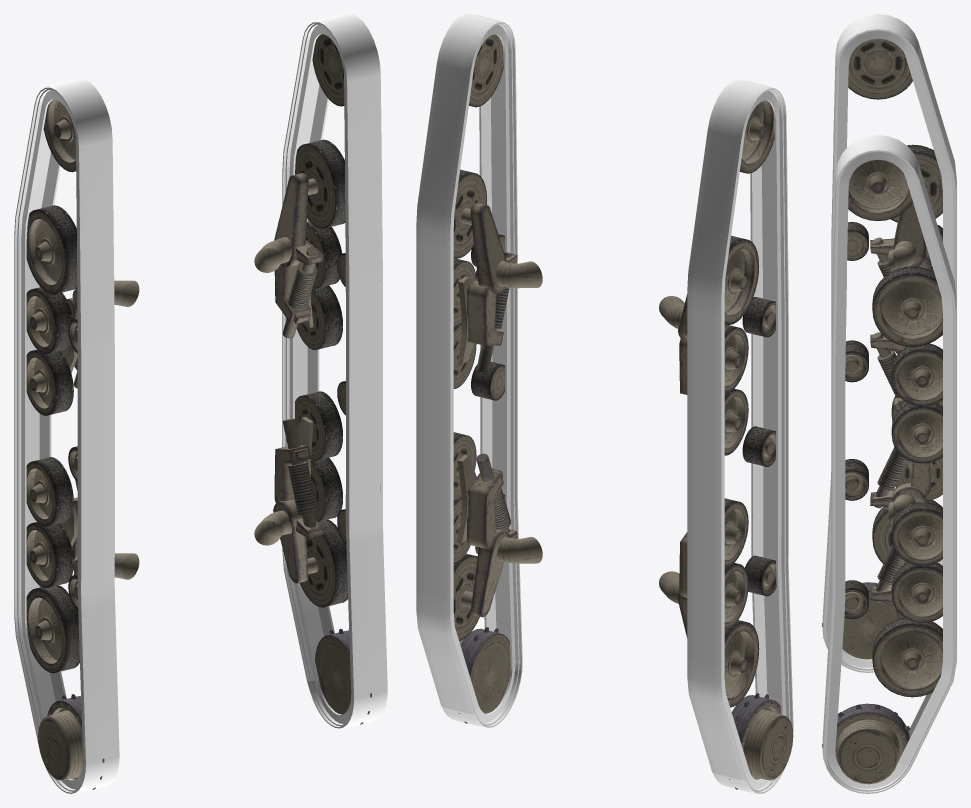
The model's file is Chassis.glb.
The picture shows the model from 3 angles, left to right: view 1: azimuth 30°, elevation 25°; view 2: azimuth 150°, elevation 25°; view 3: azimuth 270°, elevation 25°; orthographic projection. The views are drawn at different scales.
Visible parts, largest first — view 1: set_1_group_0, set_0_group_0, set_2_group_0, set_3_group_0; view 2: set_1_group_0, set_0_group_0, set_2_group_0, set_3_group_0; view 3: set_2_group_0, set_0_group_0, set_3_group_0, set_1_group_0.
Boxes of the visible parts, left/top/right/bottom form: set_1_group_0: left=14, top=79, right=119, bottom=793; set_0_group_0: left=282, top=14, right=387, bottom=728; set_2_group_0: left=254, top=34, right=371, bottom=724; set_3_group_0: left=26, top=99, right=139, bottom=789; set_1_group_0: left=687, top=80, right=793, bottom=793; set_0_group_0: left=416, top=14, right=522, bottom=727; set_2_group_0: left=453, top=34, right=542, bottom=723; set_3_group_0: left=659, top=100, right=793, bottom=789; set_2_group_0: left=822, top=159, right=942, bottom=784; set_0_group_0: left=822, top=135, right=956, bottom=793; set_3_group_0: left=822, top=38, right=942, bottom=659; set_1_group_0: left=822, top=14, right=956, bottom=672.
Size of the model in its own units: 2.64 by 5.48 by 1.04.
Materials: 4 (2 with a texture image).
